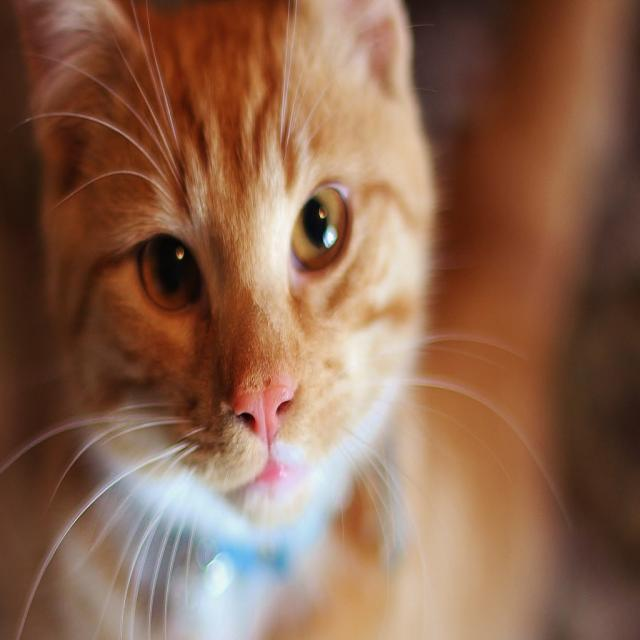Cat: (0, 0, 568, 638)
